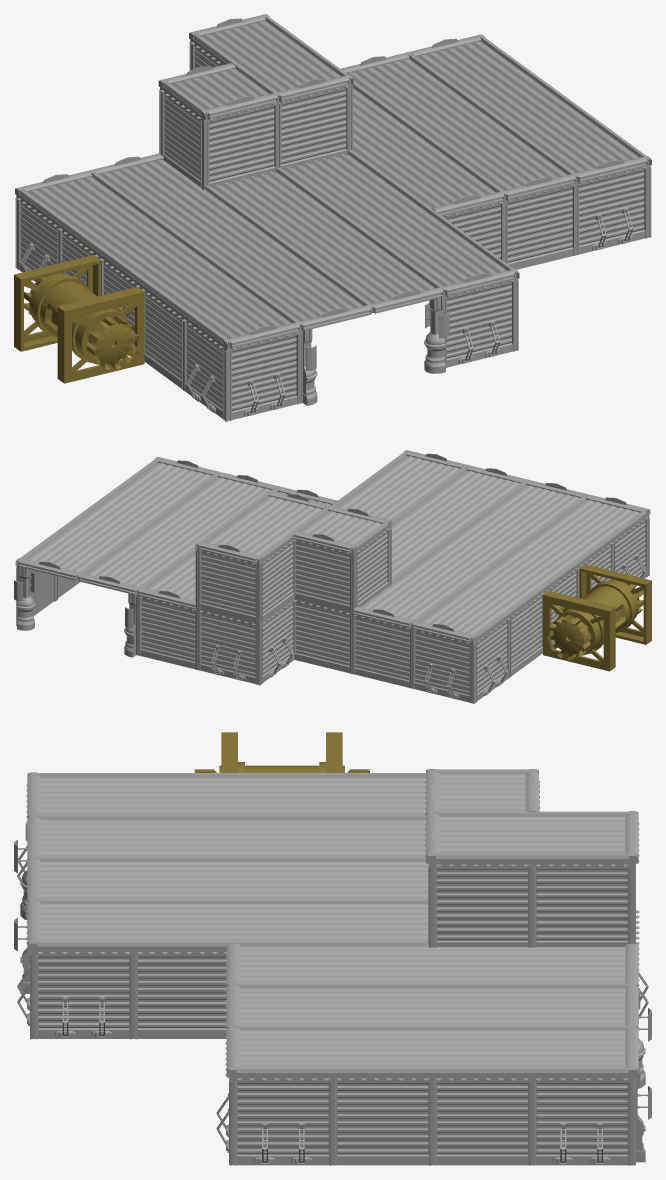
File: Checkpoint02.fbx
3 views of the same model, one above another, from view 1: azimuth 30°, elevation 25°; view 2: azimuth 150°, elevation 25°; view 3: azimuth 270°, elevation 25° (orthographic). The views are drawn at different scales.
Visible parts, largest first — view 1: Roof01, Roof02, FullGeneratorAssembly03, WallFullPrefab05, WallFullPrefab01, WallFullPrefab10, Roof03, WallFullPrefab09, WallFullPrefab02, WallFullPrefab03, Roof04, ShieldGenerator02 (+2 smaller); view 2: Roof01, Roof02, WallFullPrefab11, FullGeneratorAssembly03, WallFullPrefab01, WallFullPrefab07, WallFullPrefab10, Roof03, WallFullPrefab08, WallFullPrefab09, Roof04, WallFullPrefab06 (+2 smaller); view 3: Roof01, Roof02, WallFullPrefab06, WallFullPrefab09, WallFullPrefab04, Roof03, Roof04, FullGeneratorAssembly03, Brackets08, Brackets07, Brackets05, ShieldGenerator04.
Part boxes in pixels (left/top/right/bottom): Roof01: left=15, top=150, right=519, bottom=349; Roof02: left=340, top=34, right=651, bottom=216; FullGeneratorAssembly03: left=14, top=255, right=144, bottom=383; WallFullPrefab05: left=442, top=167, right=646, bottom=269; WallFullPrefab01: left=15, top=195, right=231, bottom=421; WallFullPrefab10: left=159, top=87, right=276, bottom=189; Roof03: left=189, top=14, right=353, bottom=102; WallFullPrefab09: left=274, top=83, right=352, bottom=172; WallFullPrefab02: left=223, top=330, right=303, bottom=419; WallFullPrefab03: left=442, top=280, right=513, bottom=367; Roof04: left=158, top=63, right=277, bottom=120; ShieldGenerator02: left=424, top=295, right=449, bottom=373; Roof01: left=331, top=450, right=650, bottom=643; Roof02: left=15, top=457, right=337, bottom=609; WallFullPrefab11: left=294, top=599, right=469, bottom=702; FullGeneratorAssembly03: left=543, top=564, right=651, bottom=671; WallFullPrefab01: left=469, top=516, right=649, bottom=703; WallFullPrefab07: left=136, top=594, right=255, bottom=683; WallFullPrefab10: left=295, top=526, right=391, bottom=613; Roof03: left=195, top=490, right=330, bottom=564; WallFullPrefab08: left=255, top=539, right=296, bottom=685; WallFullPrefab09: left=195, top=548, right=255, bottom=623; Roof04: left=293, top=506, right=392, bottom=553; WallFullPrefab06: left=16, top=565, right=80, bottom=625; Roof01: left=27, top=772, right=428, bottom=951; Roof02: left=226, top=943, right=638, bottom=1077; WallFullPrefab06: left=229, top=1077, right=635, bottom=1165; WallFullPrefab09: left=425, top=823, right=639, bottom=947; WallFullPrefab04: left=30, top=951, right=226, bottom=1039; Roof03: left=426, top=811, right=638, bottom=863; Roof04: left=426, top=769, right=538, bottom=811; FullGeneratorAssembly03: left=194, top=732, right=369, bottom=772; Brackets08: left=553, top=1123, right=610, bottom=1165; Brackets07: left=254, top=1123, right=312, bottom=1165; Brackets05: left=55, top=996, right=112, bottom=1038; ShieldGenerator04: left=635, top=1069, right=651, bottom=1162.
Bounding box in the file's own units: 2535 × 636 × 1944.
